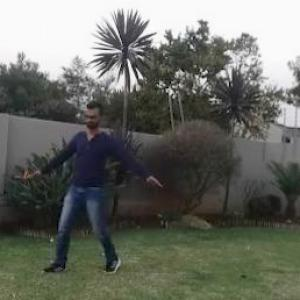land: (43, 108, 155, 250)
